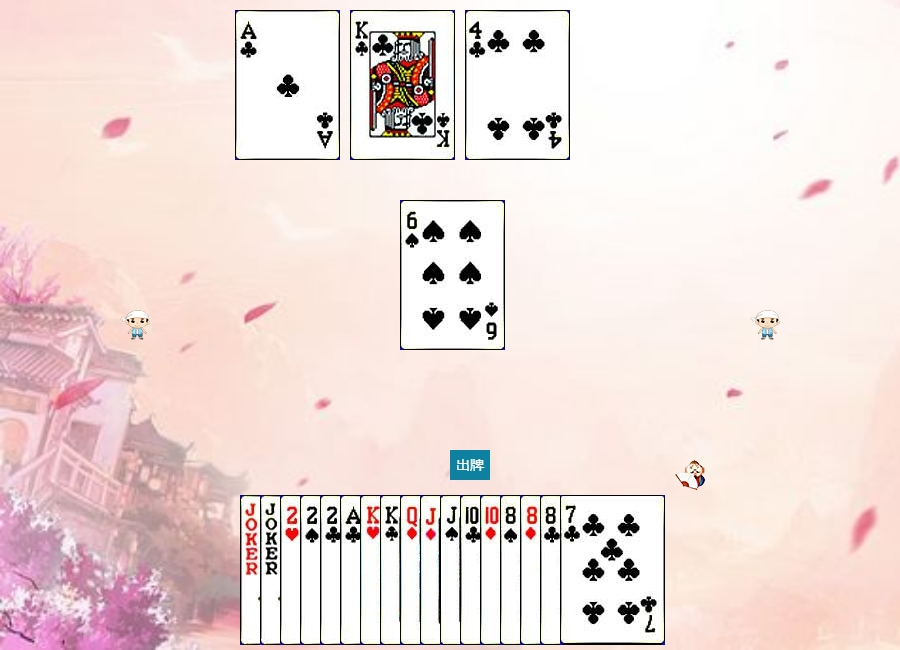10~1: (480, 495, 585, 645)
10~2: (460, 495, 565, 645)
11~1: (420, 495, 525, 645)
11~4: (440, 495, 545, 645)
12~1: (400, 495, 505, 645)
13~2: (350, 10, 455, 160), (380, 495, 485, 645)
13~3: (360, 495, 465, 645)
14~2: (235, 10, 340, 160), (340, 495, 445, 645)
15~2: (320, 495, 425, 645)
15~3: (280, 495, 385, 645)
15~4: (300, 495, 405, 645)
17~3: (260, 495, 365, 645)
18~4: (240, 495, 345, 645)
4~2: (465, 10, 570, 160)
6~4: (400, 200, 505, 350)
7~2: (560, 495, 665, 645)
8~1: (520, 495, 625, 645)
8~2: (540, 495, 645, 645)
8~4: (500, 495, 605, 645)
